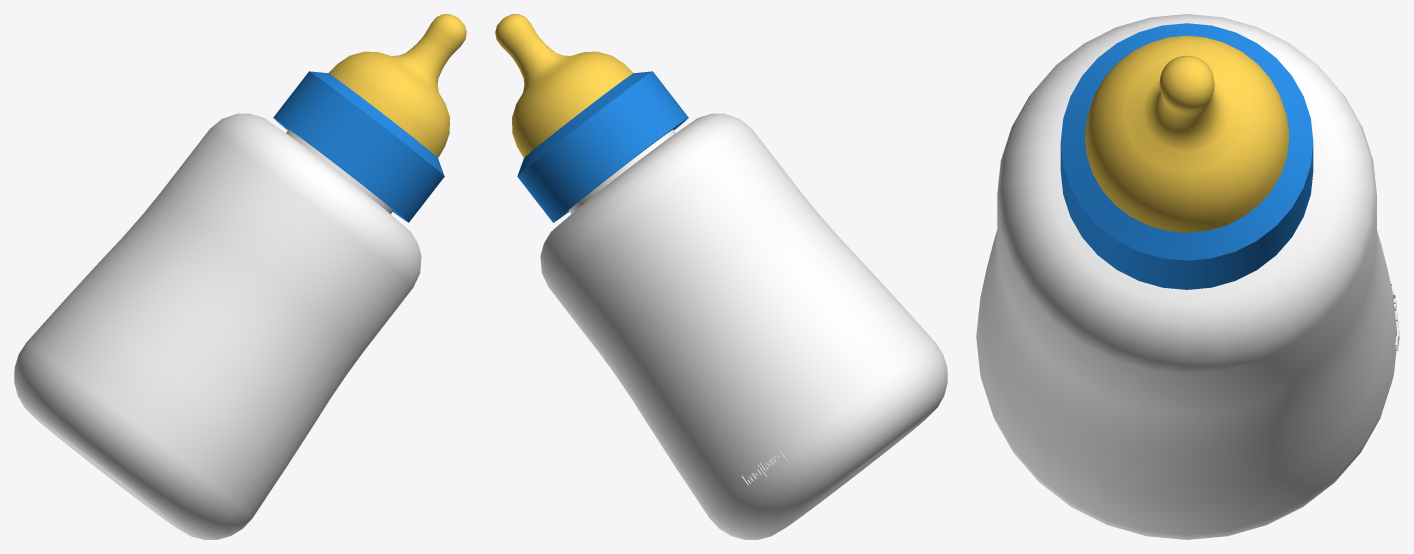
File: baby_bottle.fbx
3 renders of one model, left to right at view 1: azimuth 30°, elevation 25°; view 2: azimuth 150°, elevation 25°; view 3: azimuth 270°, elevation 25°, orthographic. The views are drawn at different scales.
Parts seen in each view (by area): view 1: Circle.2266; view 2: Circle.2266; view 3: Circle.2266.
Part boxes in pixels (left/top/right/bottom): Circle.2266: left=14, top=14, right=466, bottom=539; Circle.2266: left=495, top=14, right=947, bottom=539; Circle.2266: left=976, top=14, right=1399, bottom=539.
Bounding box in the file's own units: 224 × 224 × 131.
Materials: 1 (1 with a texture image).
